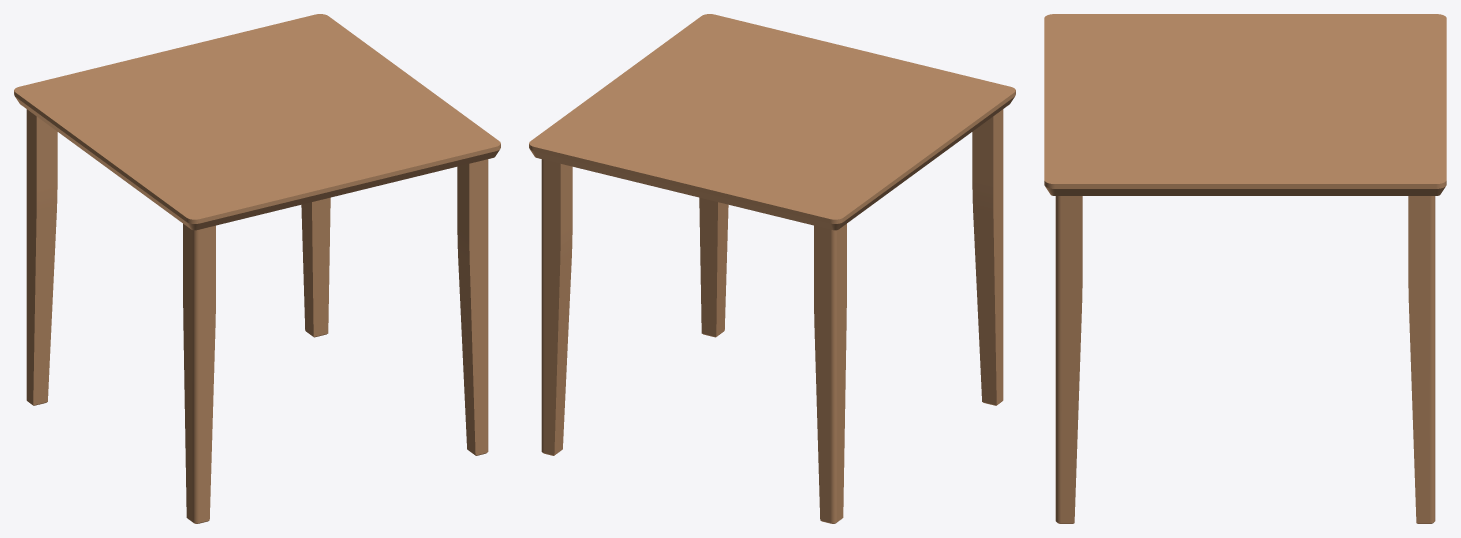
File: 581_ダイニングテーブル2人掛け.glb
3 renders of one model, left to right at view 1: azimuth 30°, elevation 25°; view 2: azimuth 150°, elevation 25°; view 3: azimuth 270°, elevation 25°, orthographic. The views are drawn at different scales.
Visible parts, largest first — view 1: Body; view 2: Body; view 3: Body.
Boxes of the visible parts, x1,y1,x2,y2 form: Body: (14, 14, 500, 523); Body: (529, 14, 1015, 523); Body: (1044, 14, 1446, 523).
Bounding box in the file's own units: 0.75 × 0.71 × 0.75.
